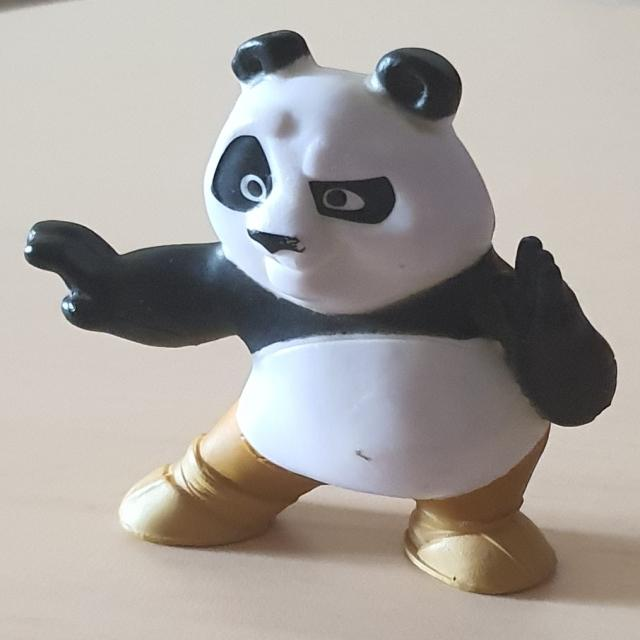Panda: (23, 28, 618, 594)
